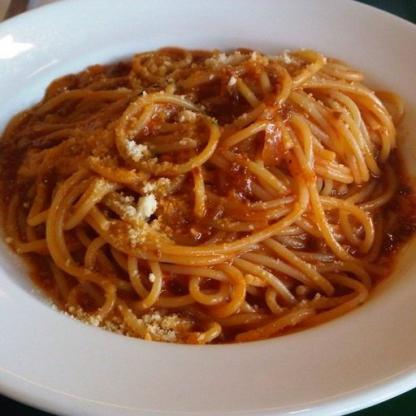pasta: (0, 48, 408, 343)
